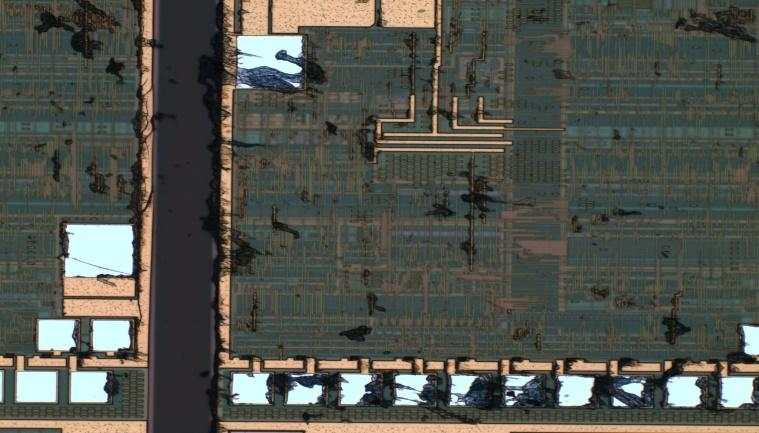PO CONTAMINATION: (1, 1, 759, 433)
